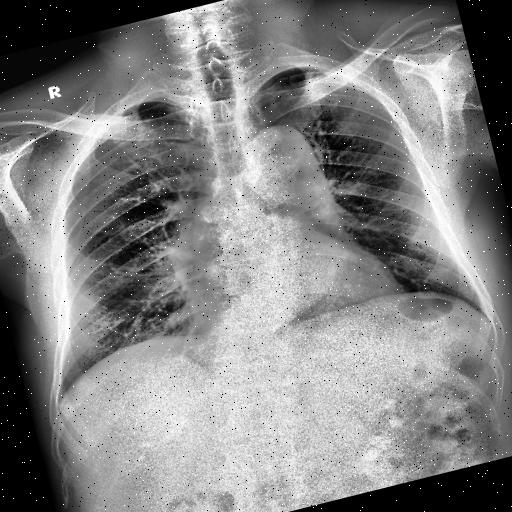0- Aortic enlargement: (242, 114, 333, 218), (238, 120, 316, 192), (246, 120, 316, 190)
3- Cardiomegaly: (188, 232, 400, 340)
